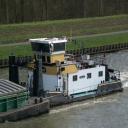tugboat: (9, 38, 125, 110)
